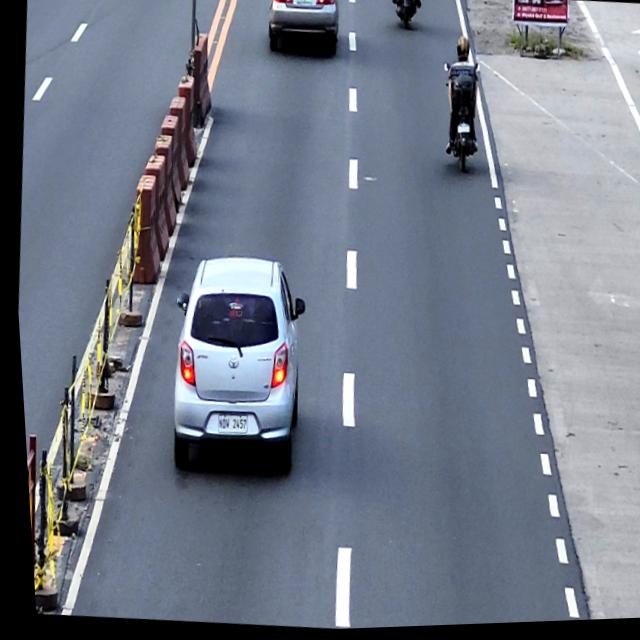Car: (155, 250, 313, 479), (263, 0, 342, 58)
License-Plate: (209, 410, 244, 436), (454, 125, 469, 138), (294, 0, 314, 8), (400, 0, 413, 2)
Motorcycle: (433, 62, 484, 178), (388, 0, 423, 33)
